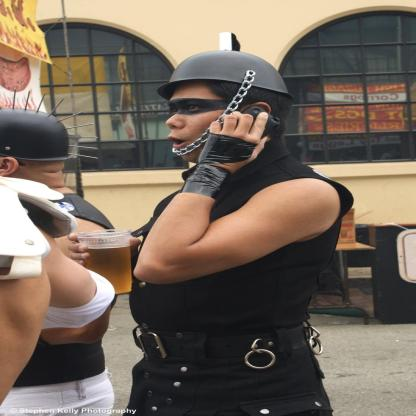Helmet: (156, 44, 290, 155), (0, 86, 95, 162)
